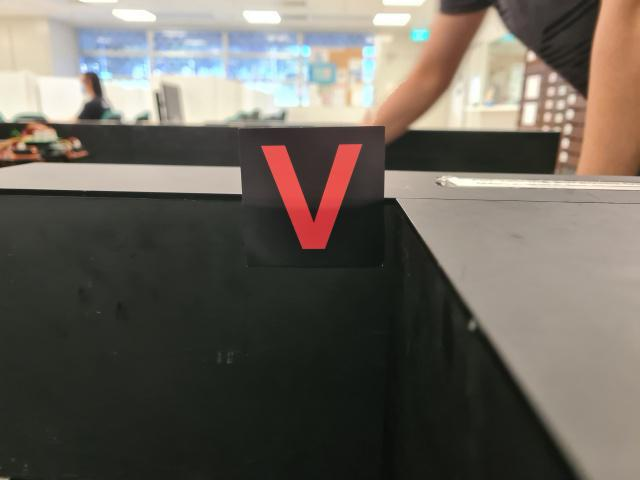v: (237, 125, 385, 269)
